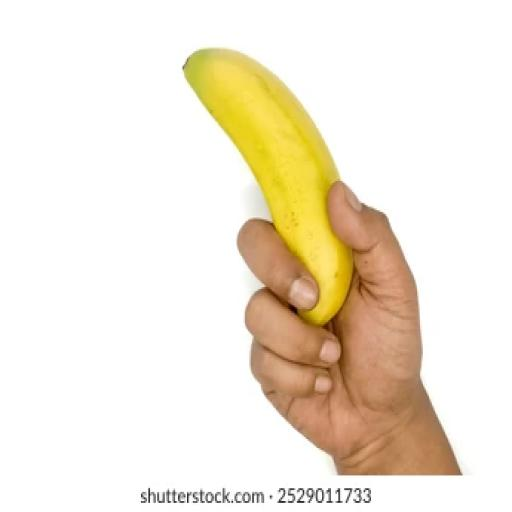banana: (185, 50, 353, 325)
